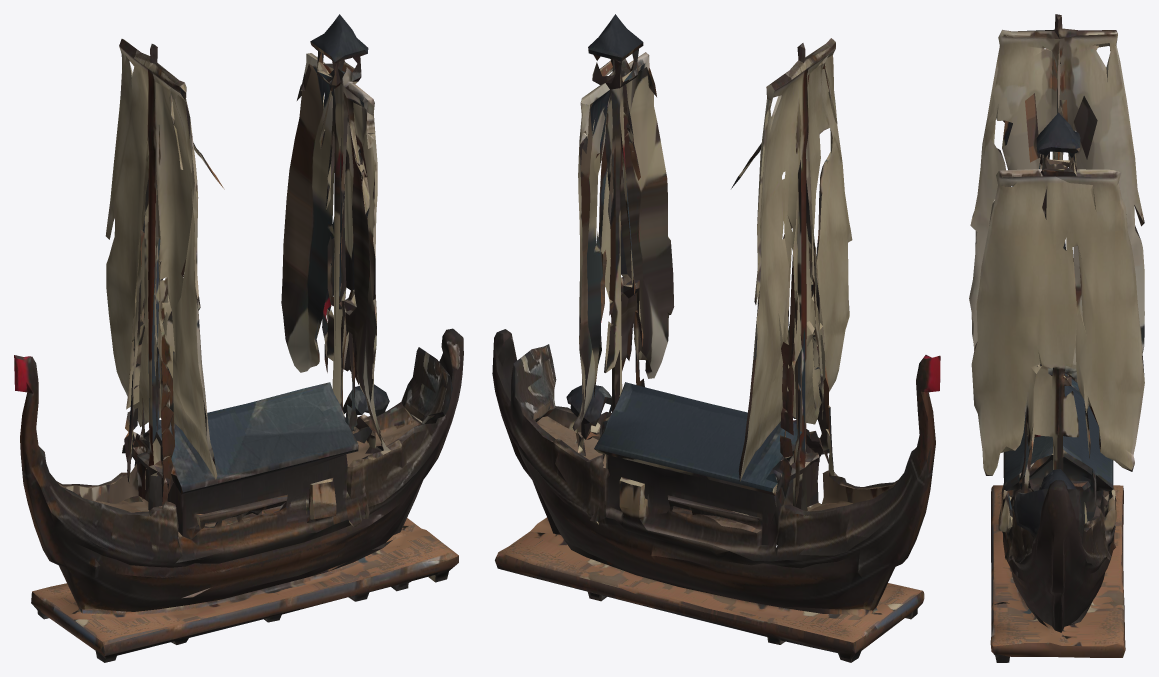
The model's file is ayutthaya_junco_tributo.glb.
3 views of the same model, side by side, from view 1: azimuth 30°, elevation 25°; view 2: azimuth 150°, elevation 25°; view 3: azimuth 270°, elevation 25° (orthographic). The views are drawn at different scales.
Visible parts, largest first — view 1: geometry_0; view 2: geometry_0; view 3: geometry_0.
Part boxes in pixels (box(x1,y1,x2,y2)): geometry_0: box(14, 14, 463, 662); geometry_0: box(492, 14, 940, 662); geometry_0: box(969, 14, 1144, 662).
Bounding box in the file's own units: 3.4 × 4.2 × 1.26.
Materials: 1 (1 with a texture image).
